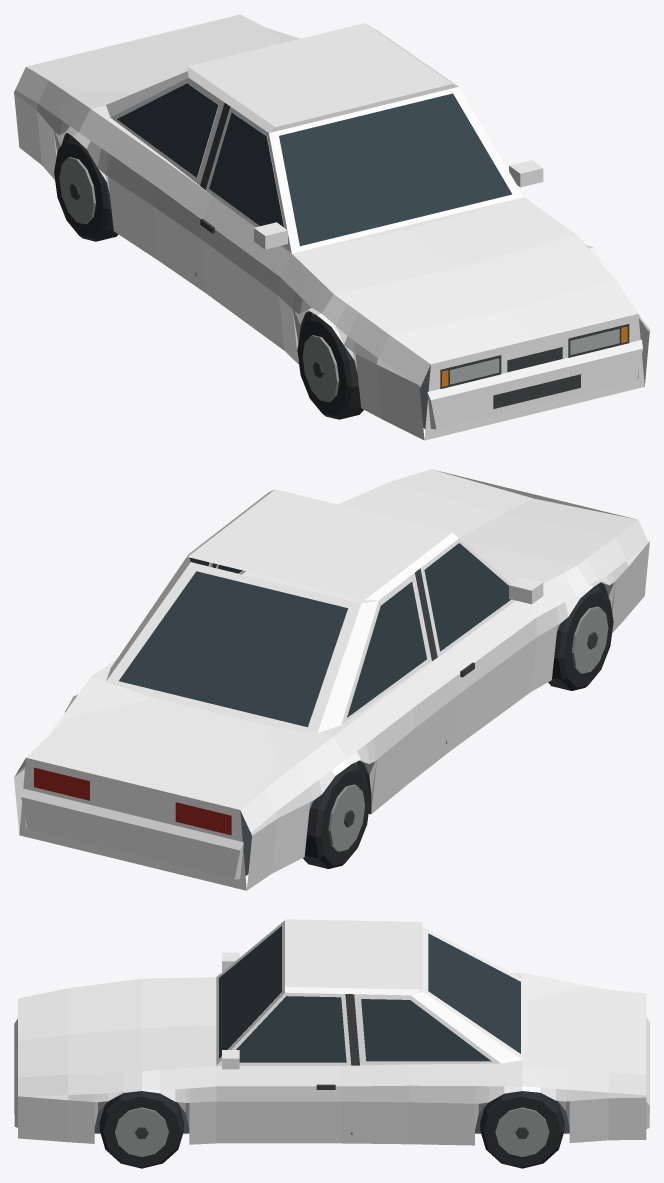
Rendered from kanaya_yozora_s.glb.
3 renders of one model, top to bottom at view 1: azimuth 30°, elevation 25°; view 2: azimuth 150°, elevation 25°; view 3: azimuth 270°, elevation 25°, orthographic. The views are drawn at different scales.
Parts seen in each view (by area): view 1: kanaya_yozora_s; view 2: kanaya_yozora_s; view 3: kanaya_yozora_s.
Part boxes in pixels (bbox=[...]): kanaya_yozora_s: bbox=[14, 14, 649, 440]; kanaya_yozora_s: bbox=[14, 469, 649, 890]; kanaya_yozora_s: bbox=[14, 919, 649, 1168].
Bounding box in the file's own units: 1.7 × 1.24 × 4.31.
8 materials, 1 textured.
